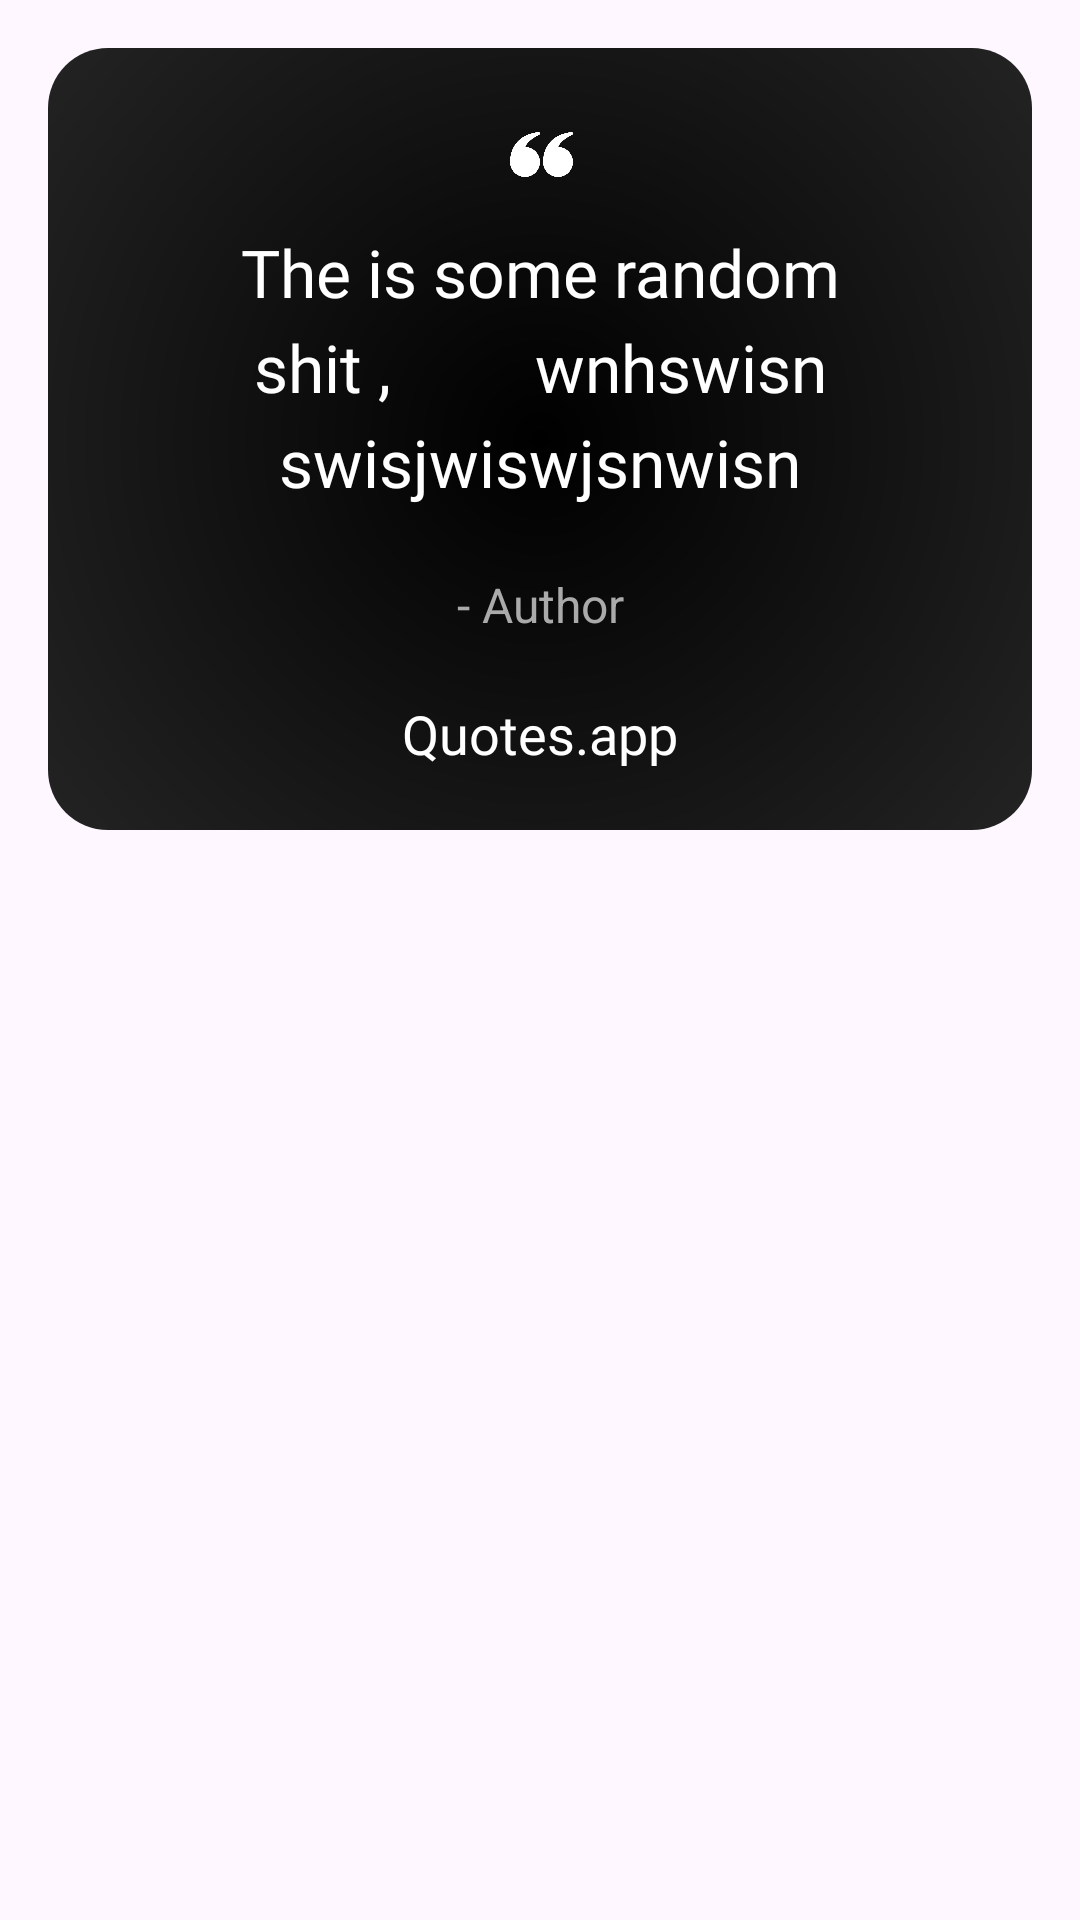

Locate icon controls on the screen. Image size 1080x1920, boxes as [x1,y1,x2,y2].
quotation: [510,132,573,177]
